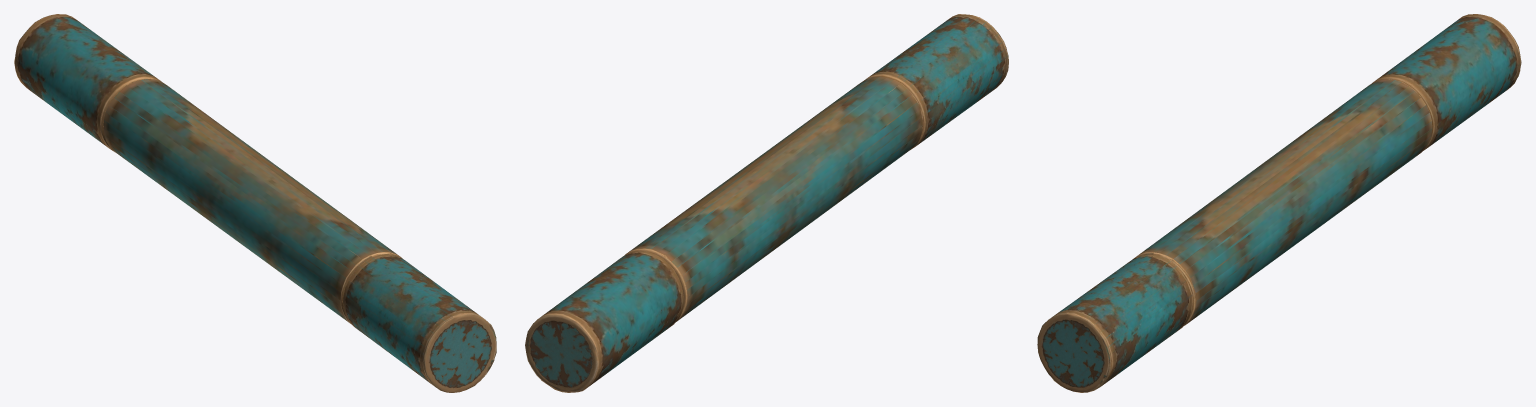
The model's file is track.glb.
The picture shows the model from 3 angles, left to right: view 1: azimuth 30°, elevation 25°; view 2: azimuth 150°, elevation 25°; view 3: azimuth 330°, elevation 25°; orthographic projection.
Visible parts, largest first — view 1: track; view 2: track; view 3: track.
Boxes of the visible parts, bbox=[...] form: track: bbox=[14, 14, 496, 392]; track: bbox=[525, 14, 1008, 392]; track: bbox=[1037, 14, 1521, 392].
Size of the model in its own units: 0.1046 by 0.1049 by 1.
Materials: 1 (1 with a texture image).
